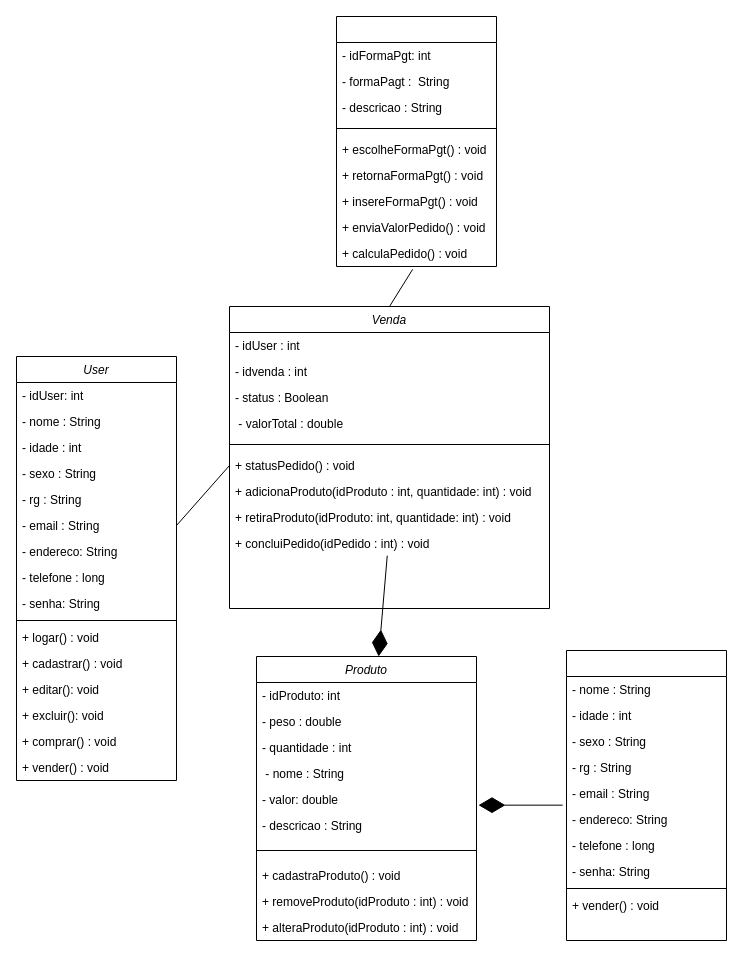
This 743x957 diagram has some shape labels left out. The shapes that lost their labels are listed below. From the top down, each one's box as (x1, y1, x2, y2) in pixels, then its label:
(336, 16, 496, 266): FormaPagamento
(566, 650, 726, 940): Fornecedor
